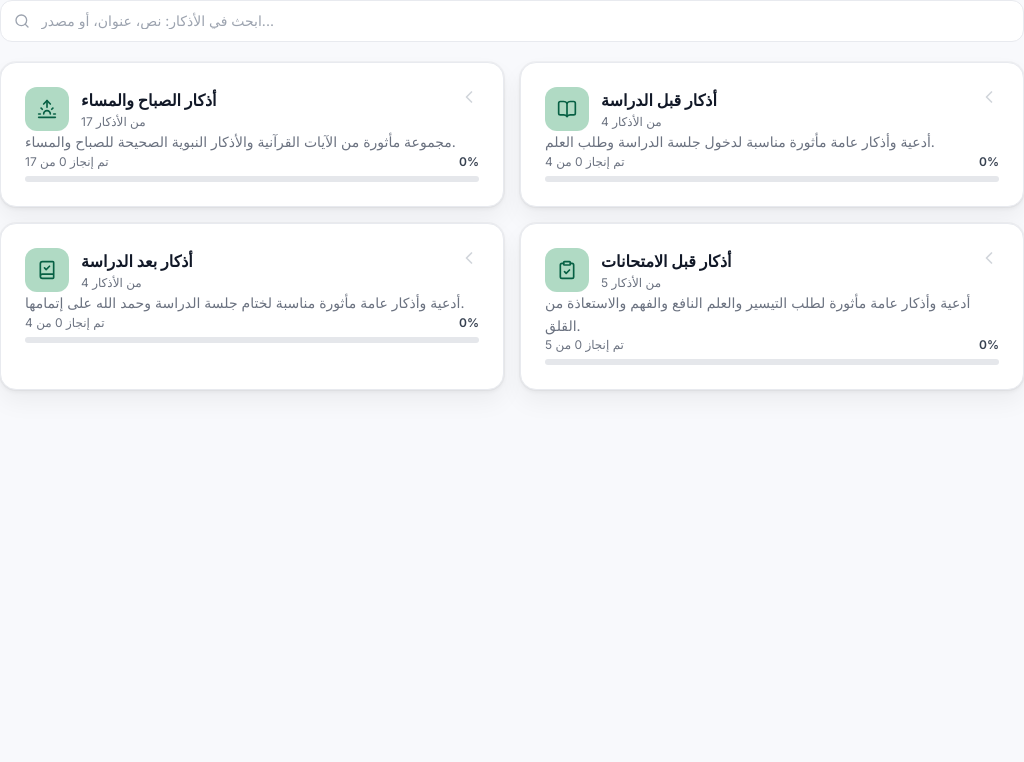
Test: Adhkar add-dhikr submissions › validates required fields before submitting
This screenshot has width=1024, height=762.
What coordinates should you click on to do the following:
click the button "أذكار الصباح والمساء"
I would click on:
 (252, 134)
Its box is [0, 62, 504, 207].
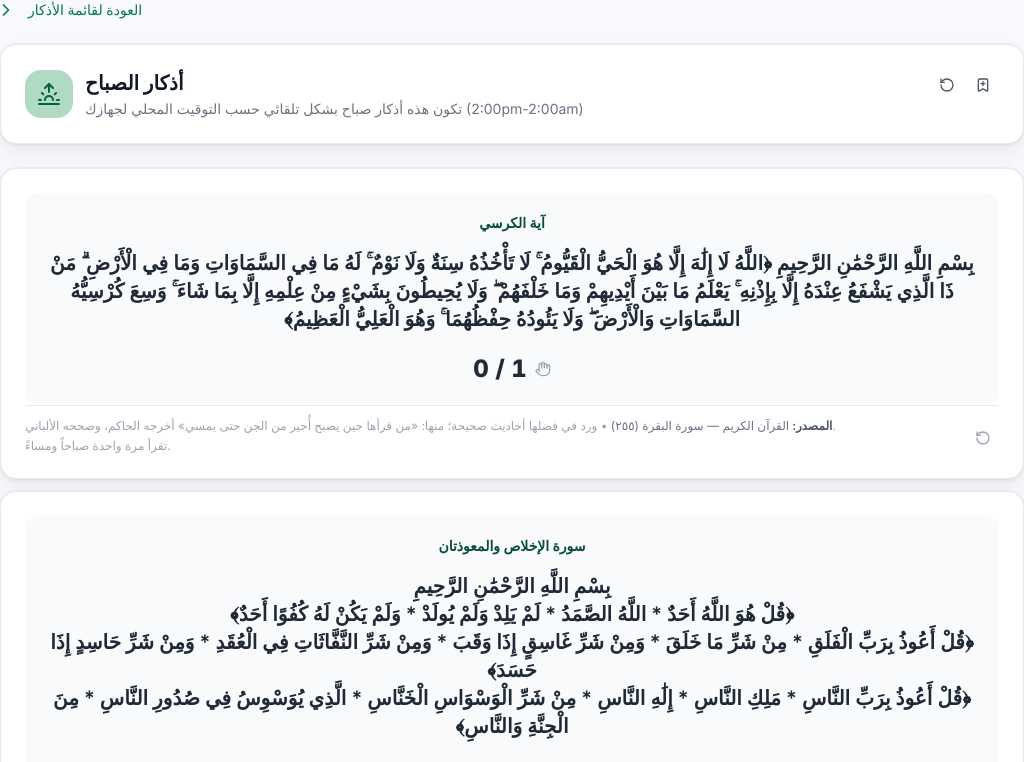
Check: the heading "أذكار الصباح" is shown, box [85, 71, 184, 95]
What coordinates should you click on to do the following:
click the button named "إضافة ذكر"
I would click on:
 (983, 85)
Its box is [967, 69, 999, 101].
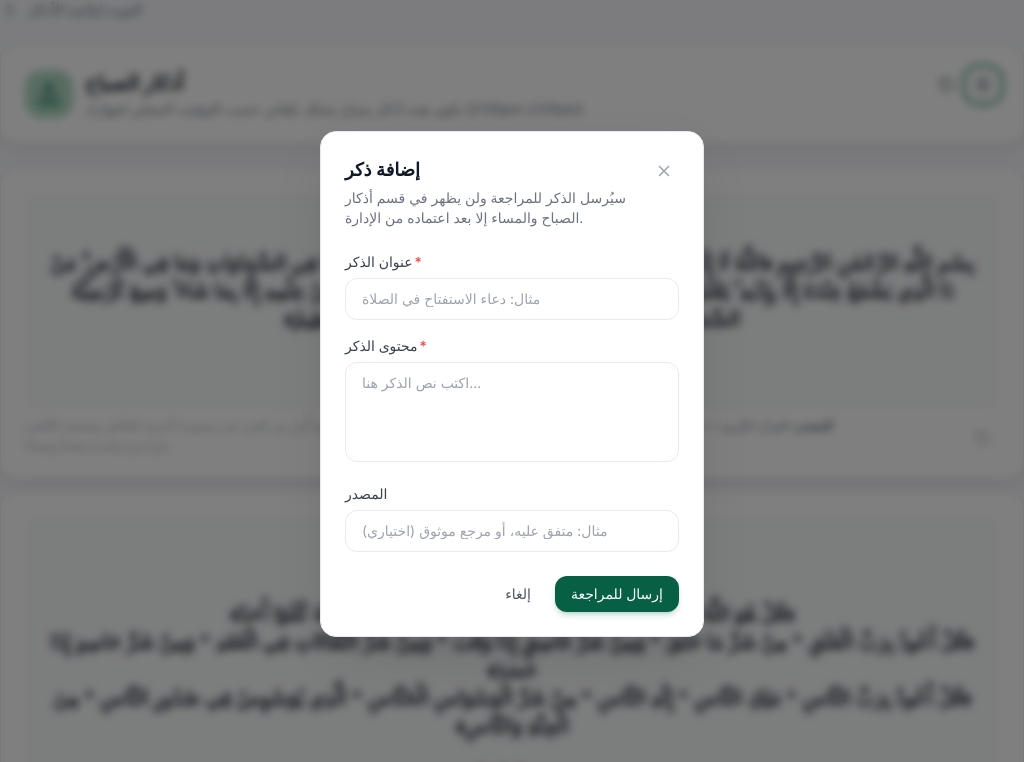
What coordinates should you click on to do the following:
click the button "إرسال للمراجعة"
I would click on:
 (617, 594)
Its box is [555, 576, 679, 612].
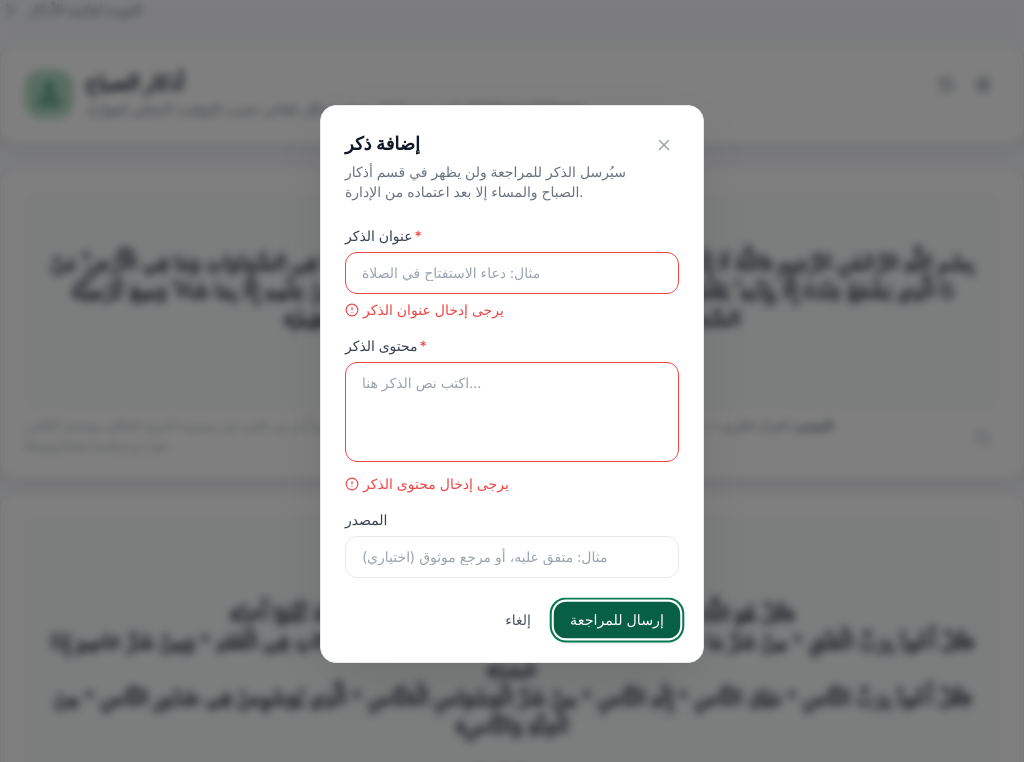
Check: the dialog is shown, box [320, 105, 704, 663]
Check: the text "يرجى إدخال عنوان الذكر" is shown, box [345, 301, 504, 318]
Check: the text "يرجى إدخال محتوى الذكر" is shown, box [345, 475, 509, 492]
